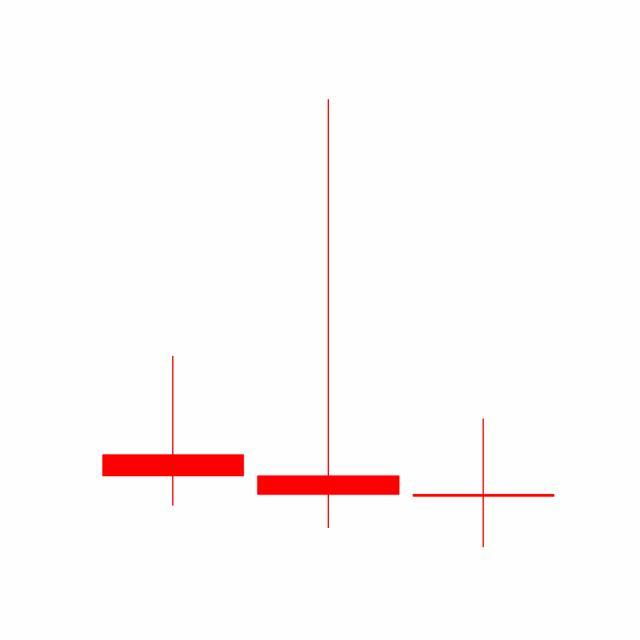Spinning Top: (406, 417, 562, 549)
